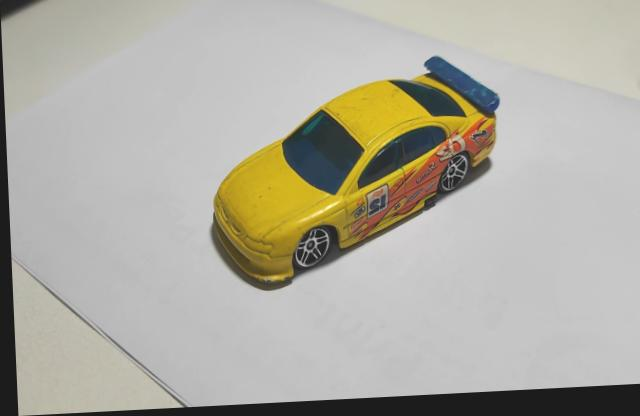02_OZSOME: (211, 60, 498, 286)
